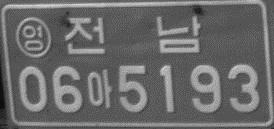0: (17, 65, 48, 113)
1: (150, 63, 182, 113)
3: (227, 63, 260, 114)
5: (116, 64, 147, 113)
6: (51, 65, 83, 113)
9: (189, 63, 222, 114)
아: (86, 68, 114, 109)
영: (15, 16, 51, 58)
전남_D: (62, 14, 201, 55)
